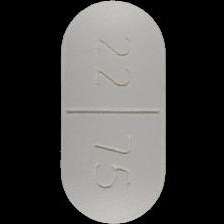55289-767: (0, 0, 224, 224)
